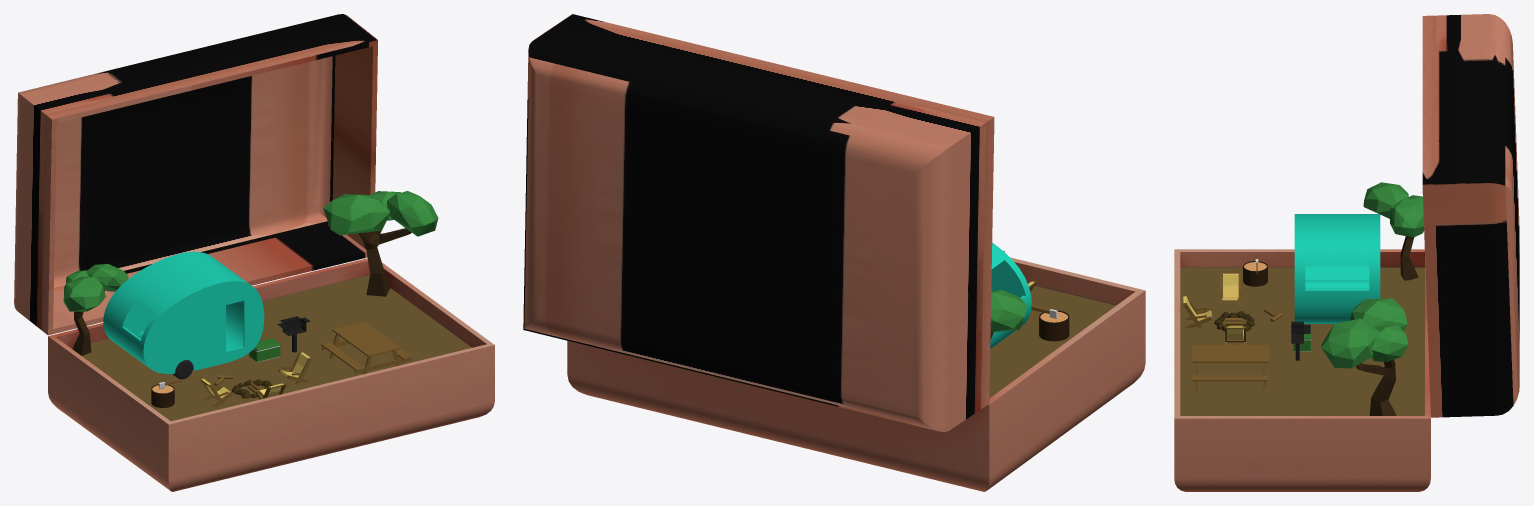
3 renders of one model, left to right at view 1: azimuth 30°, elevation 25°; view 2: azimuth 150°, elevation 25°; view 3: azimuth 270°, elevation 25°, orthographic. The views are drawn at different scales.
Visible parts, largest first — view 1: Suitcase.001, Suitcase, Ground, Trailer, Sphere.014, Sphere.015, Plane.013, Plane, Sphere.017, Sphere.018, Plane.014, Cube.013; view 2: Suitcase.001, Suitcase, Ground, Trailer, Sphere.017, Cylinder; view 3: Suitcase.001, Suitcase, Ground, Trailer, Sphere.015, Plane, Sphere.014, Plane.013, Sphere.018, Sphere.013, Sphere.017, Cylinder (+3 smaller).
Part boxes in pixels (bbox=[...]): Suitcase.001: bbox=[14, 14, 377, 335]; Suitcase: bbox=[48, 258, 494, 491]; Ground: bbox=[71, 275, 471, 421]; Trailer: bbox=[103, 251, 264, 373]; Sphere.014: bbox=[323, 194, 389, 235]; Sphere.015: bbox=[387, 191, 438, 236]; Plane.013: bbox=[358, 228, 411, 296]; Plane: bbox=[332, 321, 400, 356]; Sphere.017: bbox=[63, 276, 105, 311]; Sphere.018: bbox=[86, 264, 128, 291]; Plane.014: bbox=[72, 290, 104, 355]; Cube.013: bbox=[249, 338, 280, 362]; Suitcase.001: bbox=[523, 14, 994, 432]; Suitcase: bbox=[567, 257, 1145, 491]; Ground: bbox=[989, 285, 1115, 398]; Trailer: bbox=[990, 243, 1031, 348]; Sphere.017: bbox=[990, 290, 1026, 332]; Cylinder: bbox=[1039, 310, 1069, 341]; Suitcase.001: bbox=[1422, 14, 1519, 417]; Suitcase: bbox=[1174, 249, 1430, 491]; Ground: bbox=[1180, 267, 1424, 415]; Trailer: bbox=[1294, 214, 1380, 323]; Sphere.015: bbox=[1321, 318, 1379, 368]; Plane: bbox=[1192, 345, 1268, 362]; Sphere.014: bbox=[1349, 298, 1407, 331]; Plane.013: bbox=[1356, 359, 1396, 415]; Sphere.018: bbox=[1390, 198, 1423, 237]; Sphere.013: bbox=[1371, 325, 1408, 361]; Sphere.017: bbox=[1363, 182, 1408, 218]; Cylinder: bbox=[1243, 261, 1267, 286].
Bounding box in the file's own units: 10.12 × 8.16 × 8.08.
Materials: 15 (1 with a texture image).
